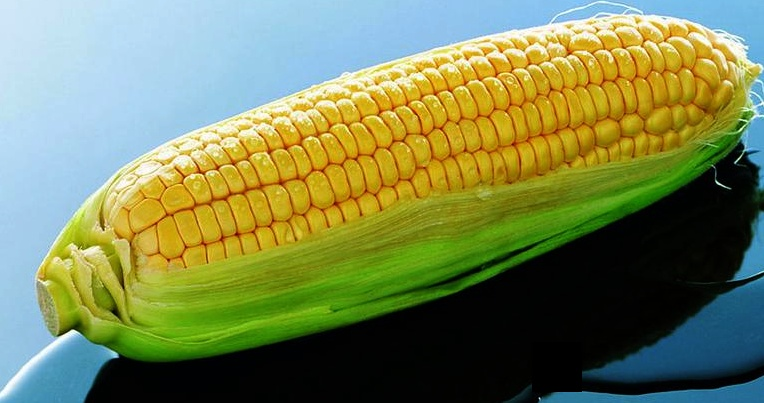corn: (42, 5, 747, 369)
